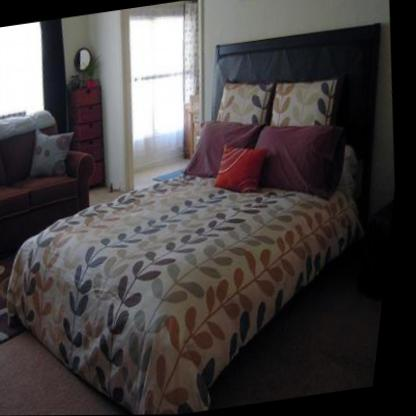Bed: (21, 63, 383, 415)
Lamp: (0, 55, 10, 125)
Sofa: (0, 104, 116, 258)
